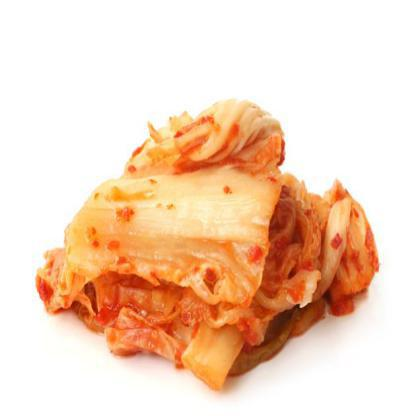kimchi: (48, 100, 396, 390)
